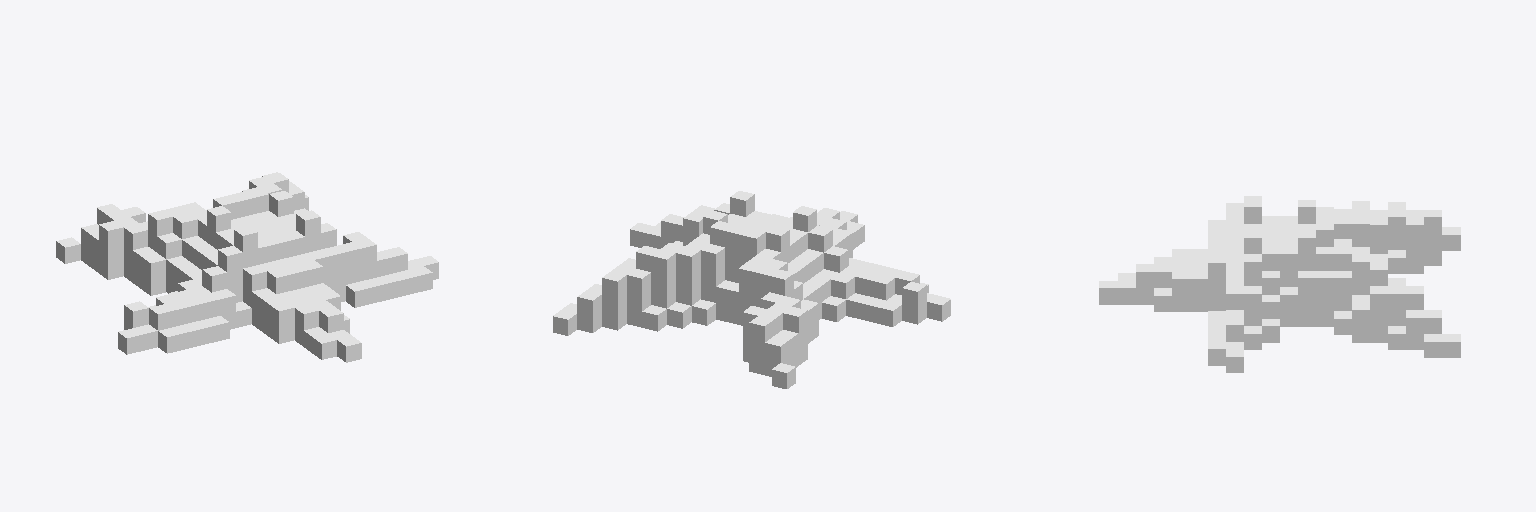
The model's file is zvezda.obj.
The picture shows the model from 3 angles: view 1: azimuth 30°, elevation 25°; view 2: azimuth 150°, elevation 25°; view 3: azimuth 270°, elevation 25°; orthographic projection.
Visible parts, largest first — view 1: object 1; view 2: object 1; view 3: object 1.
Part boxes in pixels (x1,y1,x2,y2): object 1: (56,172,438,362); object 1: (553,191,950,388); object 1: (1099,196,1460,372).
Bounding box in the file's own units: 2 × 0.5 × 2.